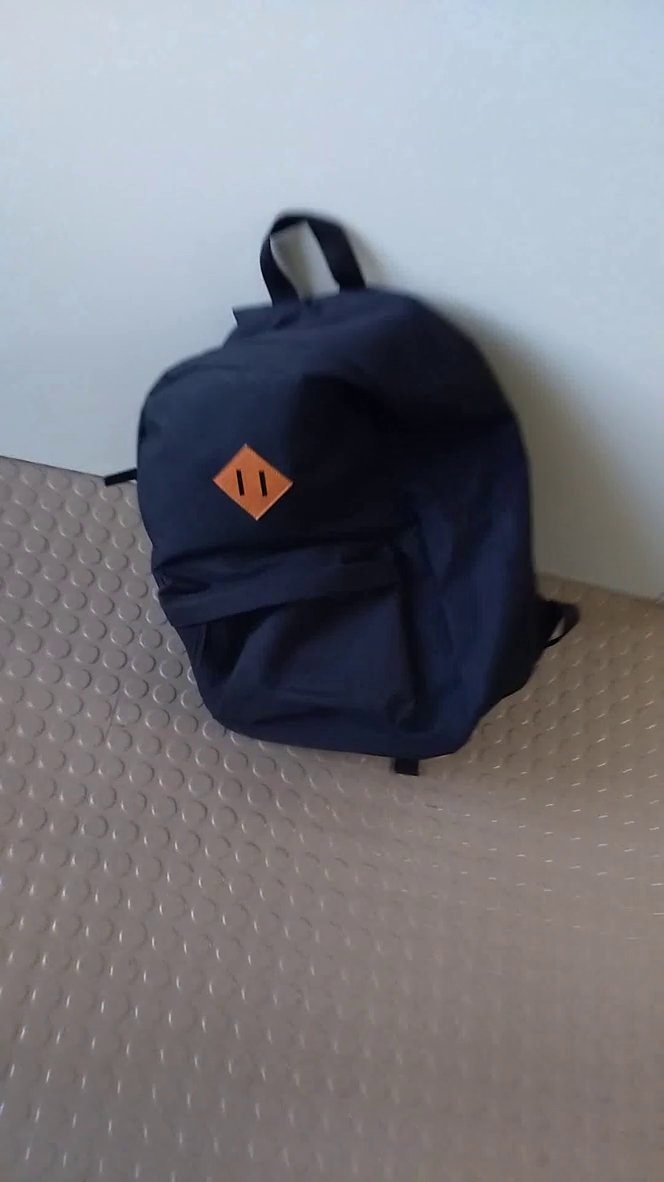bag: (87, 197, 599, 787)
